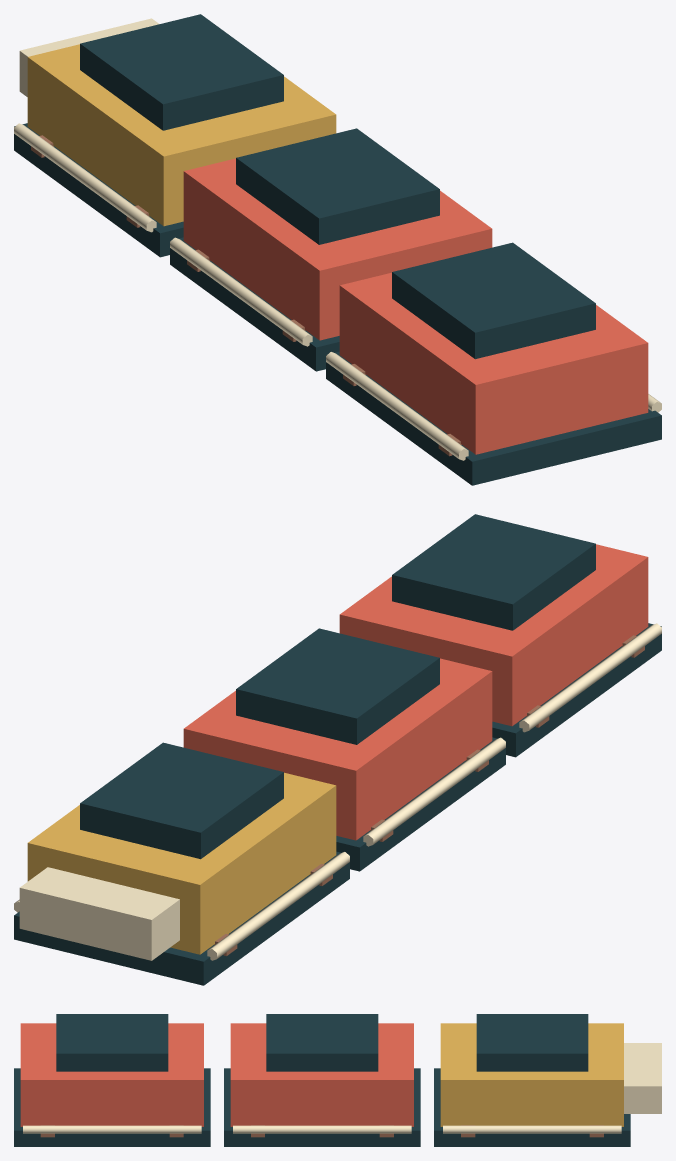
The model's file is coaster_train.glb.
The picture shows the model from 3 angles, top to bottom: view 1: azimuth 30°, elevation 25°; view 2: azimuth 150°, elevation 25°; view 3: azimuth 270°, elevation 25°; orthographic projection. The views are drawn at different scales.
Visible parts, largest first — view 1: coaster_train; view 2: coaster_train; view 3: coaster_train.
Part boxes in pixels (left/top/right/bottom): coaster_train: left=14, top=14, right=661, bottom=485; coaster_train: left=14, top=514, right=661, bottom=985; coaster_train: left=14, top=1014, right=661, bottom=1146.
Size of the model in its own units: 1.77 by 1.01 by 7.25.
